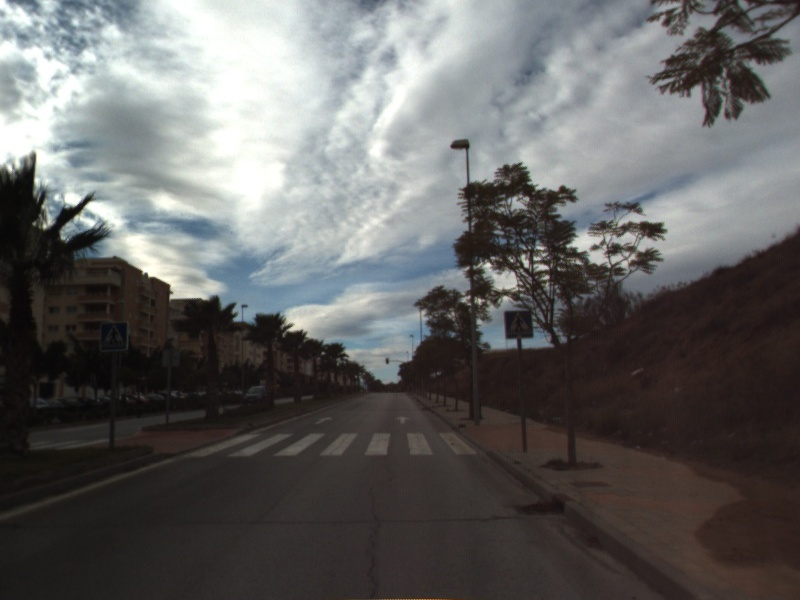STRAIGHT: (313, 414, 335, 426), (392, 414, 414, 426)
